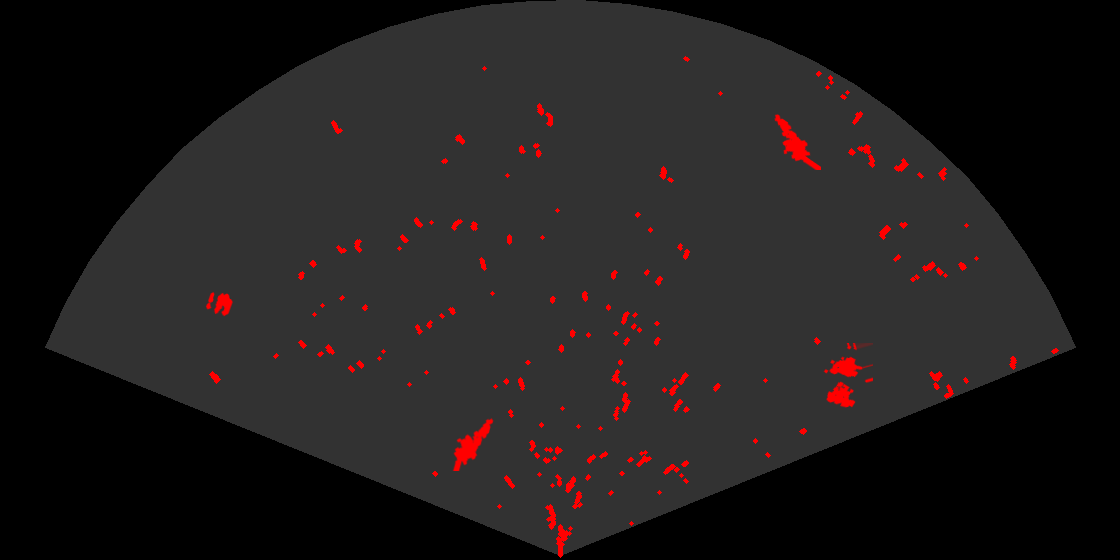ball: (204, 290, 235, 318)
cage: (822, 343, 873, 409)
frogman: (773, 113, 821, 170), (451, 416, 495, 471)
